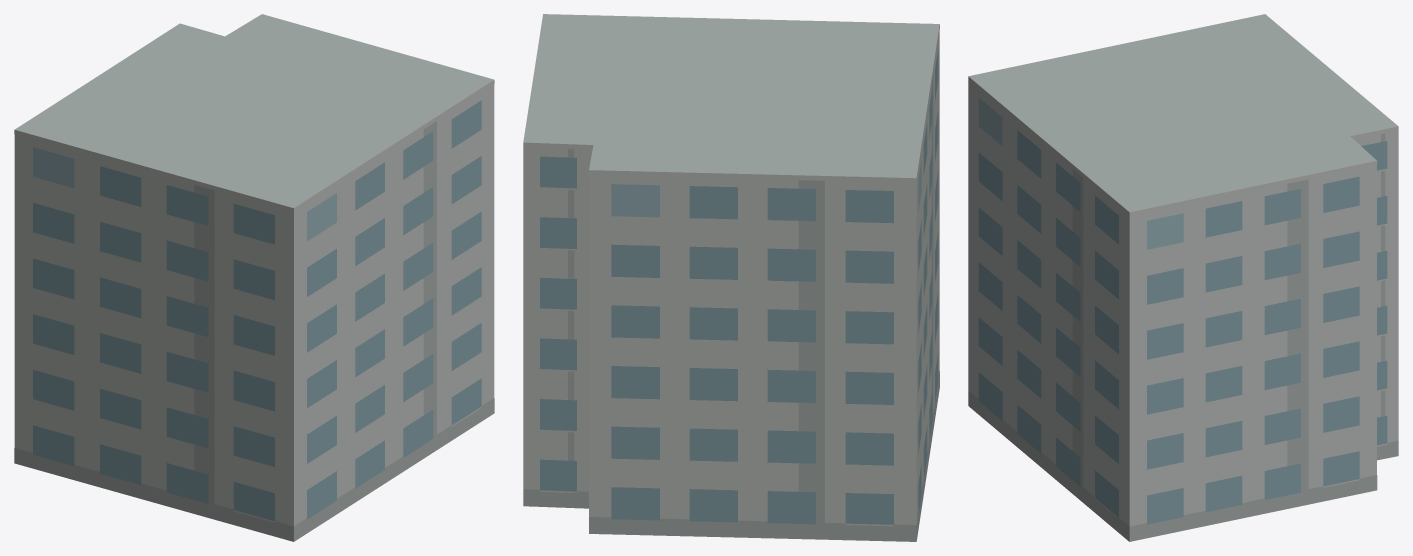
Rendered from survey-upis-32942739.glb.
3 views of the same model, side by side, from view 1: azimuth 30°, elevation 25°; view 2: azimuth 150°, elevation 25°; view 3: azimuth 270°, elevation 25° (orthographic). The views are drawn at different scales.
Visible parts, largest first — view 1: survey-upis-32942739.tmp; view 2: survey-upis-32942739.tmp; view 3: survey-upis-32942739.tmp.
Boxes of the visible parts, x1,y1,x2,y2 form: survey-upis-32942739.tmp: (14, 14, 494, 541); survey-upis-32942739.tmp: (523, 14, 939, 541); survey-upis-32942739.tmp: (968, 14, 1398, 541).
Bounding box in the file's own units: 23.49 × 18.2 × 21.55.
